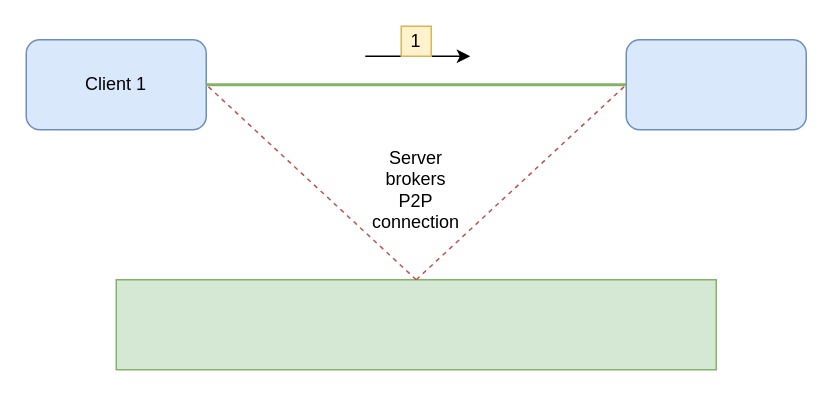
The diagram is 833 pixels wide and 396 high, and some of its shapes have lost their labels. Here are the shapes that lost their labels. From the top down, the box of each, then its label:
(625, 38, 806, 130): Client 2
(115, 278, 716, 370): Server
